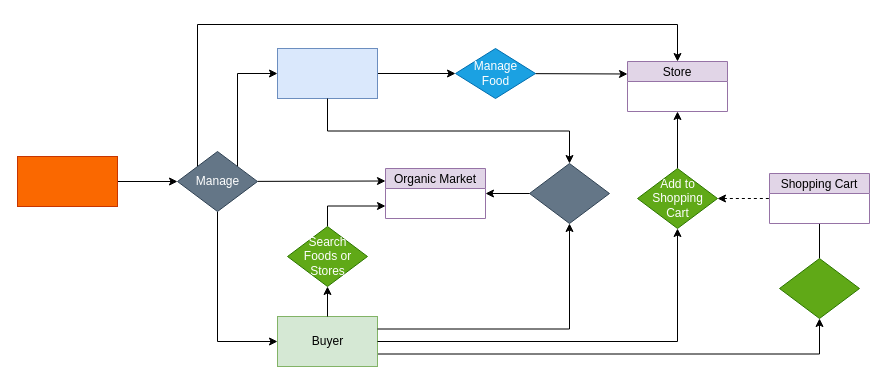
Image size: 887x384. Some labels were removed from this diagram. The shapes that lost their labels are listed below. From the top down, each one's centre as x and y in pixels, then its label:
the point at 327,73: Seller
the point at 67,181: Admin
the point at 569,193: Register
the point at 819,288: Buy
